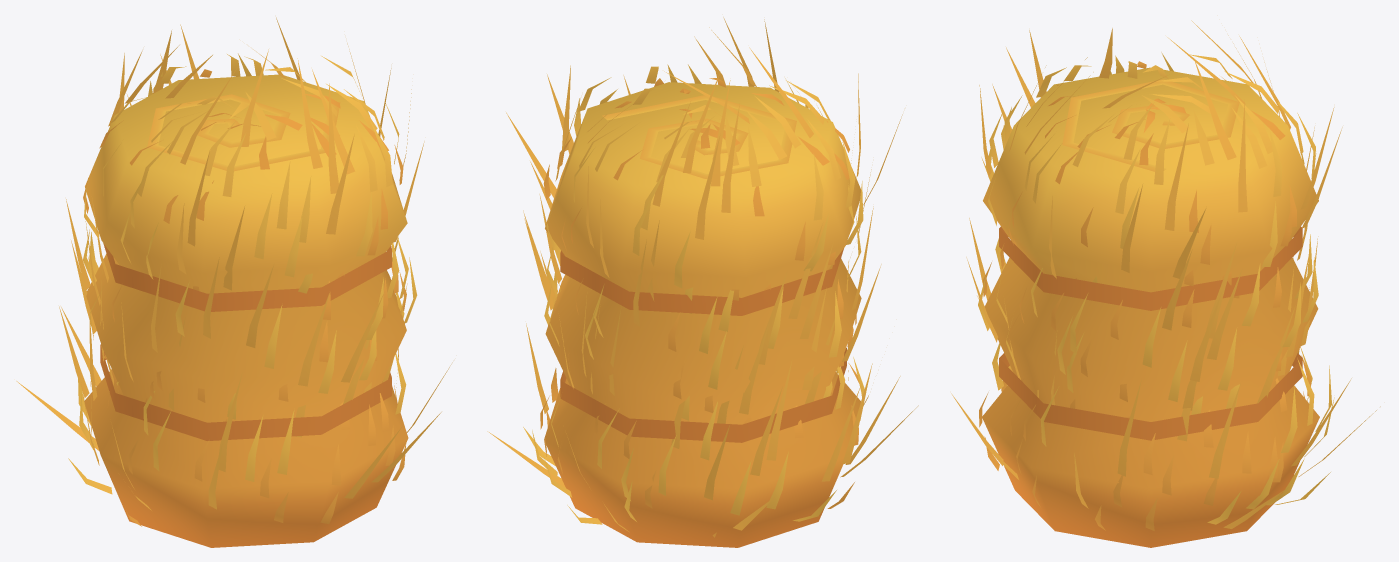
File: haystackthick.glb
The picture shows the model from 3 angles, left to right: view 1: azimuth 30°, elevation 25°; view 2: azimuth 150°, elevation 25°; view 3: azimuth 270°, elevation 25°; orthographic projection. The views are drawn at different scales.
Visible parts, largest first — view 1: haystackthick; view 2: haystackthick; view 3: haystackthick.
Part boxes in pixels (bbox=[...]): haystackthick: bbox=[16, 17, 452, 547]; haystackthick: bbox=[487, 17, 918, 547]; haystackthick: bbox=[951, 20, 1380, 547].
Bounding box in the file's own units: 1.98 × 2.46 × 2.12.
Materials: 1 (1 with a texture image).
